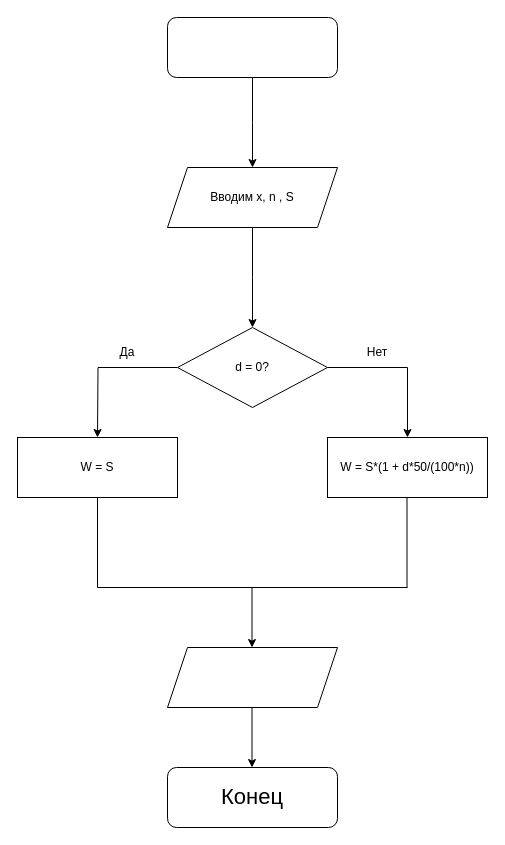
The diagram is 505 pixels wide and 845 high, and some of its shapes have lost their labels. The box of each missing label's shape, as (x1, y1, x2, y2) in pixels:
Выводим W: (166, 646, 338, 708)
Начало: (166, 16, 338, 78)
